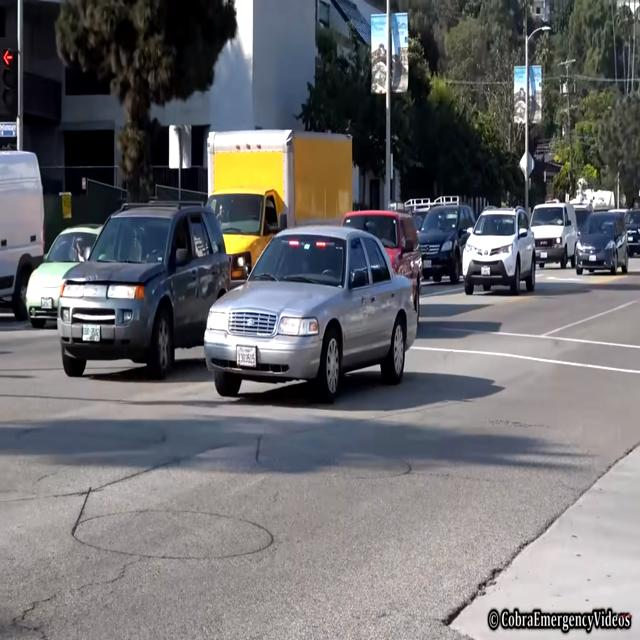emergency-vehicles: (204, 219, 420, 410)
